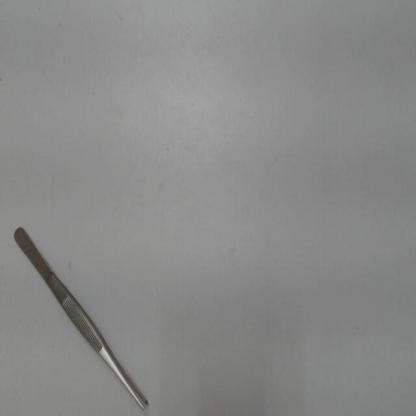Gillies Toothed Dissector: (7, 209, 150, 412)
